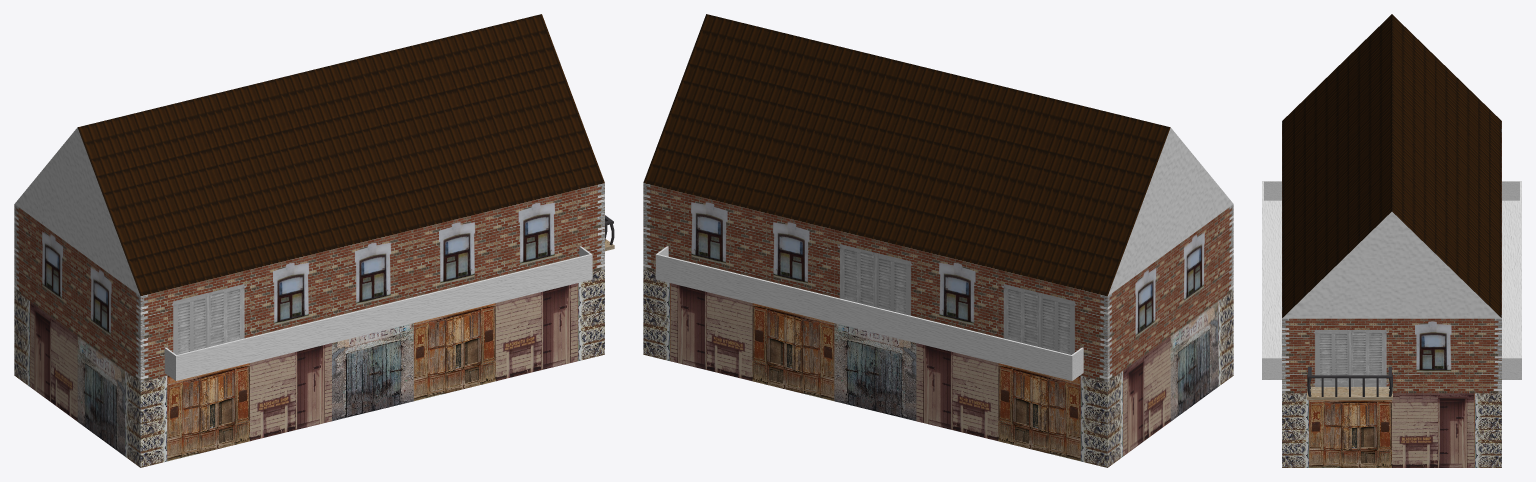
File: House_010.dae
3 views of the same model, side by side, from view 1: azimuth 30°, elevation 25°; view 2: azimuth 150°, elevation 25°; view 3: azimuth 270°, elevation 25° (orthographic). The views are drawn at different scales.
Visible parts, largest first — view 1: House_010; view 2: House_010; view 3: House_010.
Boxes of the visible parts, box(x1,y1,x2,y2) form: House_010: box(14, 14, 614, 467); House_010: box(643, 14, 1233, 467); House_010: box(1262, 14, 1521, 467).
Size of the model in its own units: 143 by 75.6 by 82.41.
